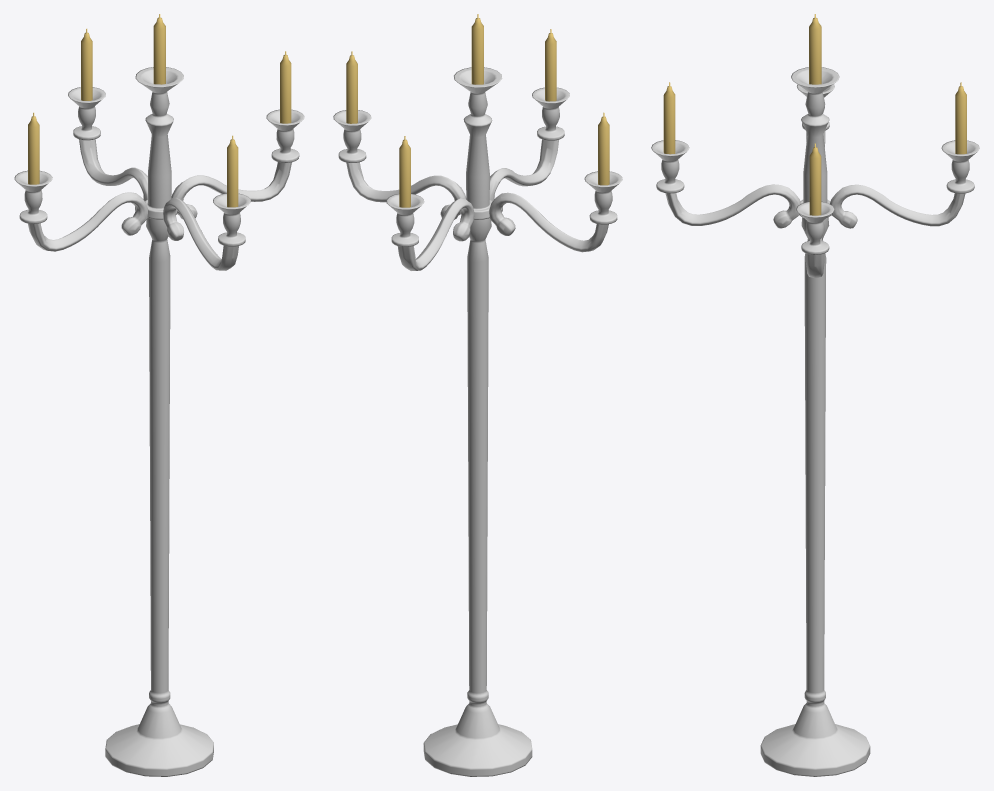
Rendered from candlebra.fbx.
3 views of the same model, side by side, from view 1: azimuth 30°, elevation 25°; view 2: azimuth 150°, elevation 25°; view 3: azimuth 270°, elevation 25° (orthographic).
Visible parts, largest first — view 1: candlebra; view 2: candlebra; view 3: candlebra.
Part boxes in pixels (x1=…): candlebra: x1=14, y1=14, x2=304, y2=776; candlebra: x1=333, y1=14, x2=622, y2=776; candlebra: x1=651, y1=14, x2=979, y2=776.
Bounding box in the file's own units: 62.97 × 156 × 62.97.
